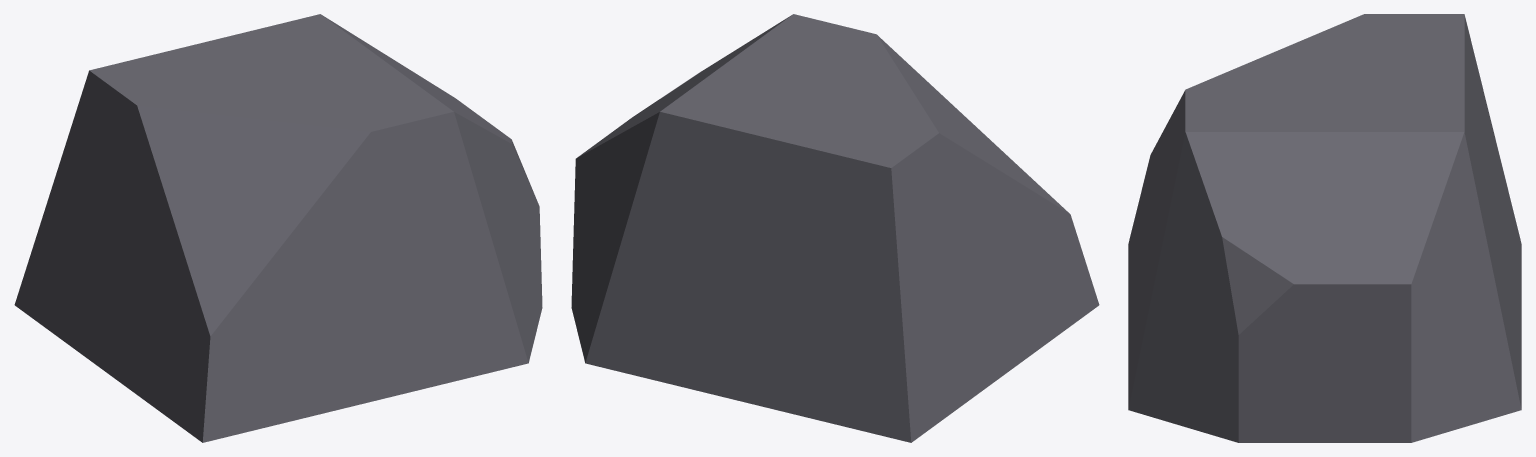
The model's file is rock1.fbx.
3 views of the same model, side by side, from view 1: azimuth 30°, elevation 25°; view 2: azimuth 150°, elevation 25°; view 3: azimuth 270°, elevation 25° (orthographic). The views are drawn at different scales.
Parts seen in each view (by area): view 1: rock1; view 2: rock1; view 3: rock1.
Boxes of the visible parts, x1,y1,x2,y2 form: rock1: (14, 14, 542, 442); rock1: (571, 14, 1099, 442); rock1: (1128, 14, 1521, 442).
Size of the model in its own units: 241 by 143 by 200.
